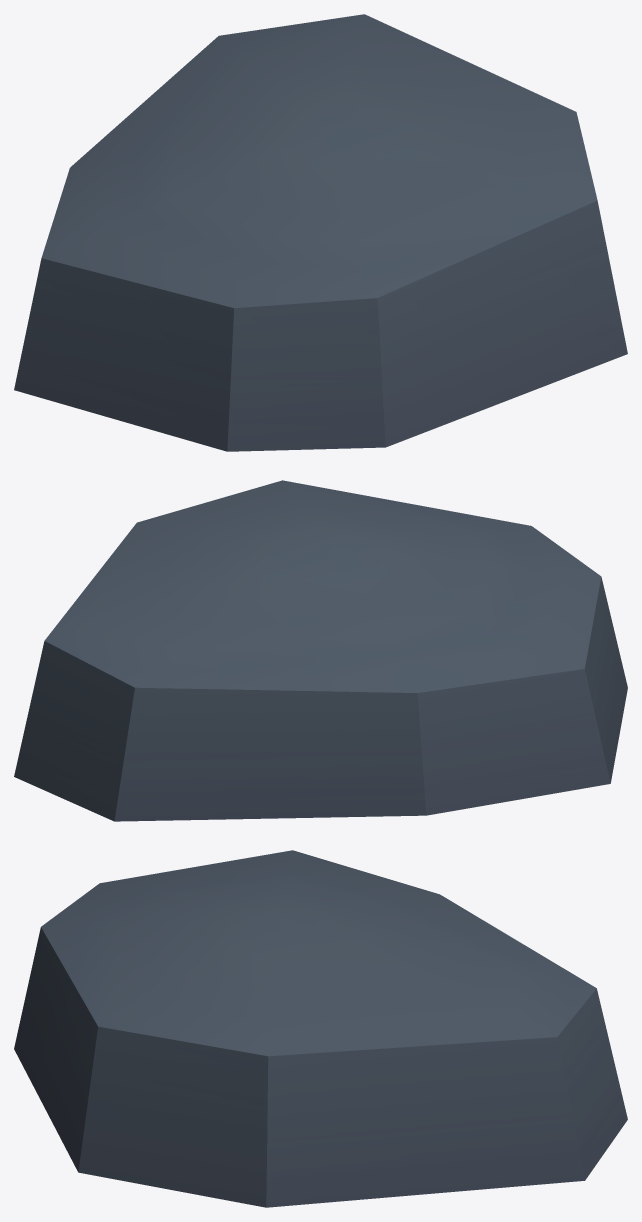
File: Rock_B_1.glb
3 renders of one model, top to bottom at view 1: azimuth 30°, elevation 25°; view 2: azimuth 150°, elevation 25°; view 3: azimuth 270°, elevation 25°, orthographic. The views are drawn at different scales.
Parts seen in each view (by area): view 1: Rock_B_1; view 2: Rock_B_1; view 3: Rock_B_1.
Part boxes in pixels (x1=…): Rock_B_1: x1=14, y1=14, x2=627, y2=451; Rock_B_1: x1=14, y1=480, x2=627, y2=821; Rock_B_1: x1=14, y1=850, x2=627, y2=1207.
Size of the model in its own units: 0.5686 by 0.177 by 0.5747.
Materials: 1 (1 with a texture image).
